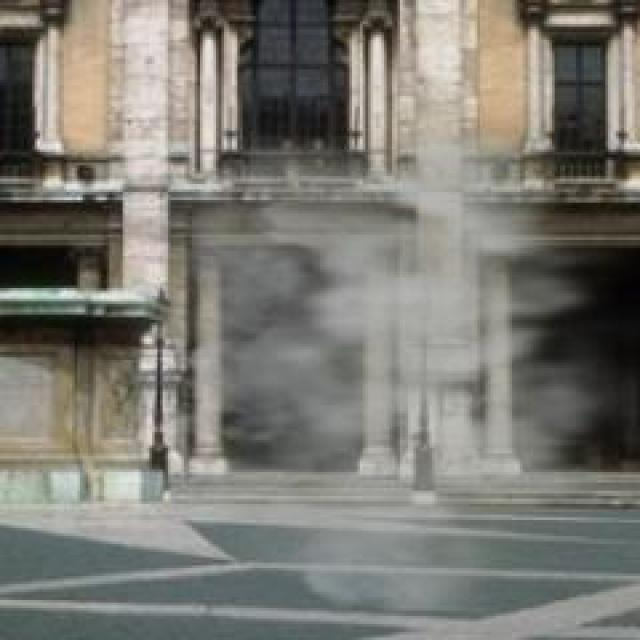smoke: (86, 92, 638, 615)
